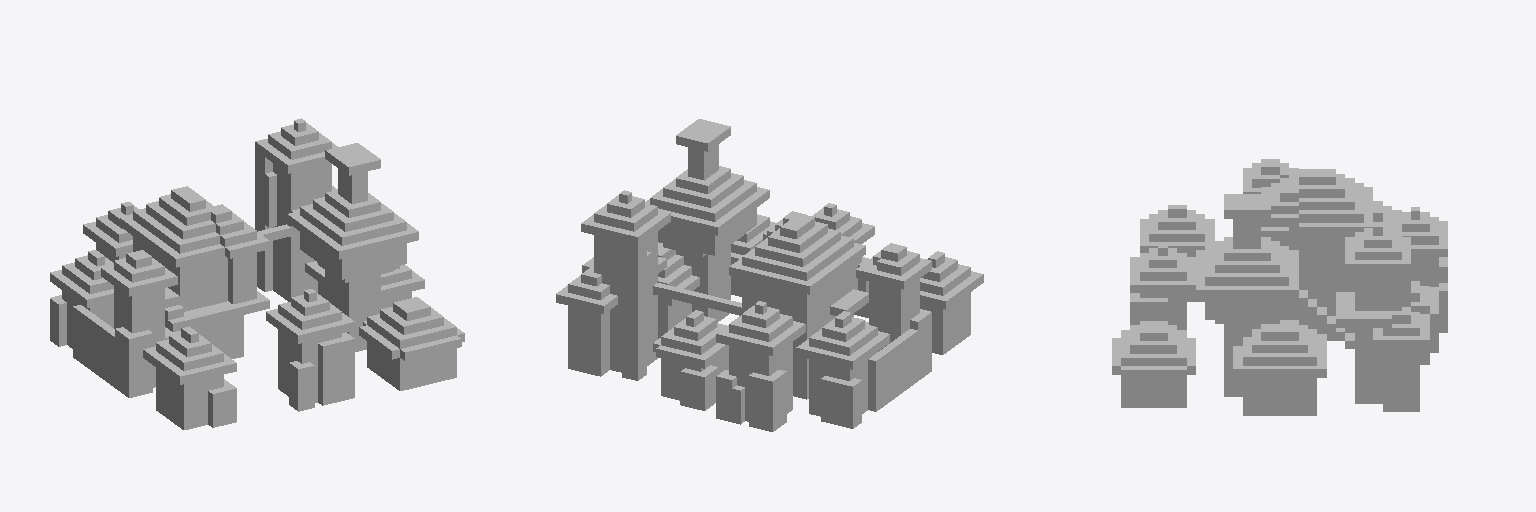
Rendered from Town ohne Rauch.obj.
The picture shows the model from 3 angles: view 1: azimuth 30°, elevation 25°; view 2: azimuth 150°, elevation 25°; view 3: azimuth 270°, elevation 25°; orthographic projection.
Parts seen in each view (by area): view 1: object 1; view 2: object 1; view 3: object 1.
Part boxes in pixels (x1,y1,x2,y2): object 1: (50, 118, 464, 429); object 1: (556, 119, 983, 431); object 1: (1112, 159, 1447, 415).
Size of the model in its own units: 3.6 by 2.2 by 3.6.